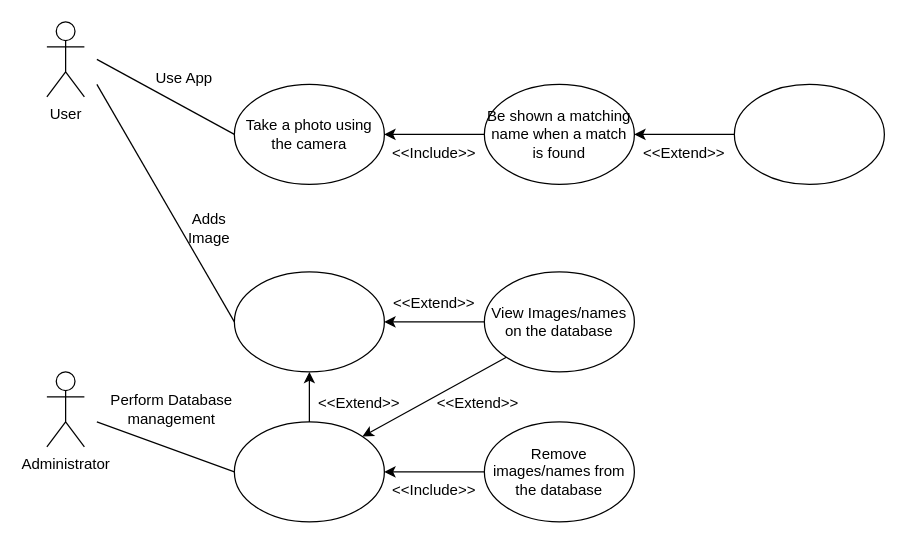
Image size: 906x544. Some labels were removed from this diagram. Each missing label, with the centre of its shape:
"If no match found, display error message" belongs at point (808, 133).
"Store pictures and names in a database" belongs at point (308, 321).
"Update image/name in the database" belongs at point (308, 471).
